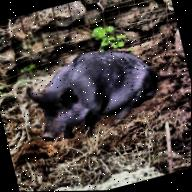boar: (8, 30, 170, 153)
